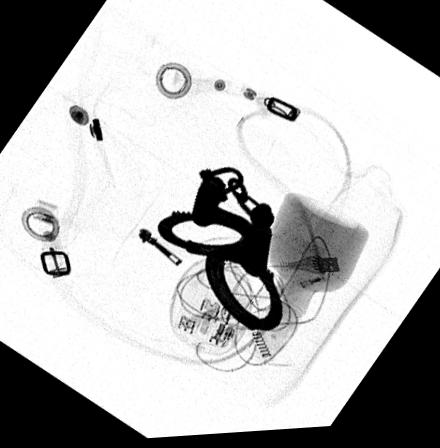HandCuffs: (155, 168, 282, 337)
